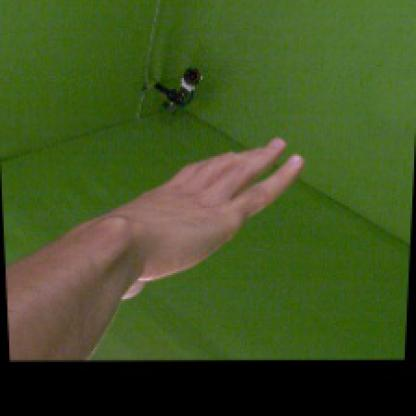Hand: (107, 138, 304, 297)
